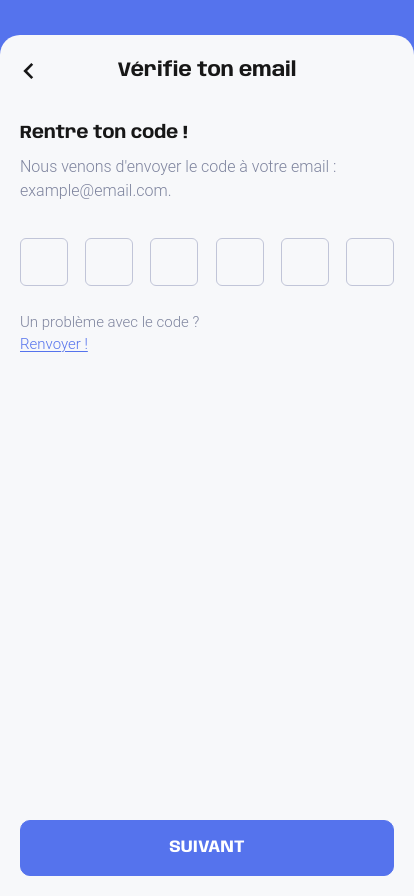
Test: E2E | auth | login › Should handle and display errors › In /otp-verification page in login type
Type "1" into the 1st number field at (44, 262), box [20,238,68,286]
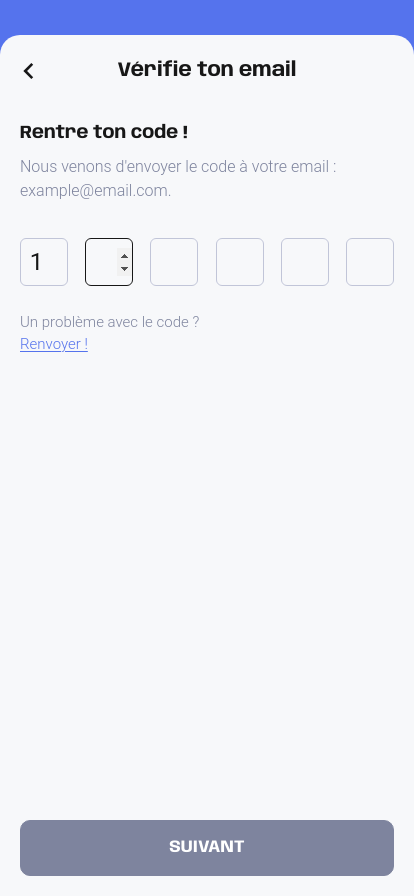
Type "2" into the 2nd number field at (109, 262), box [85,238,133,286]
Type "3" into the 3rd number field at (174, 262), box [150,238,198,286]
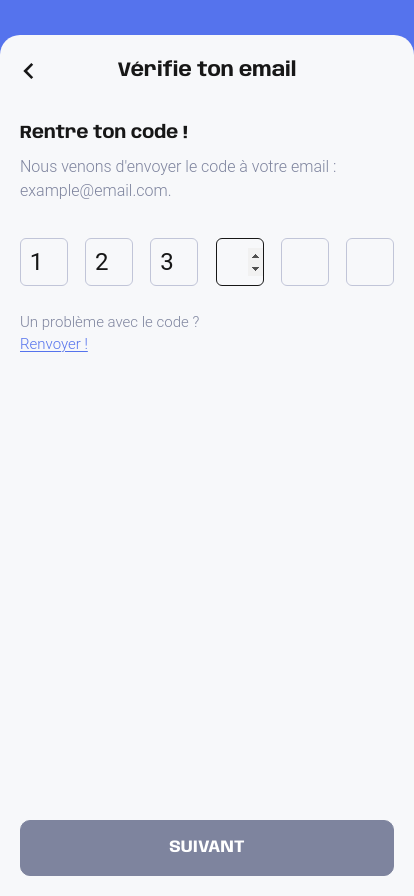
Type "4" into the 4th number field at (240, 262), box [216,238,264,286]
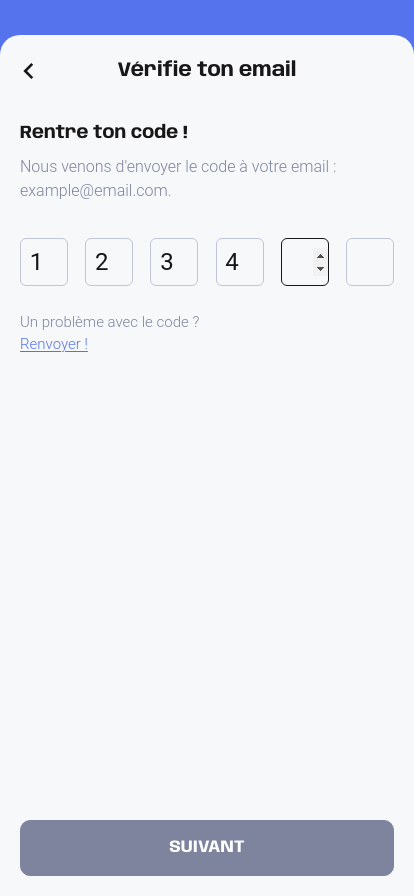
Type "5" into the 5th number field at (305, 262), box [281,238,329,286]
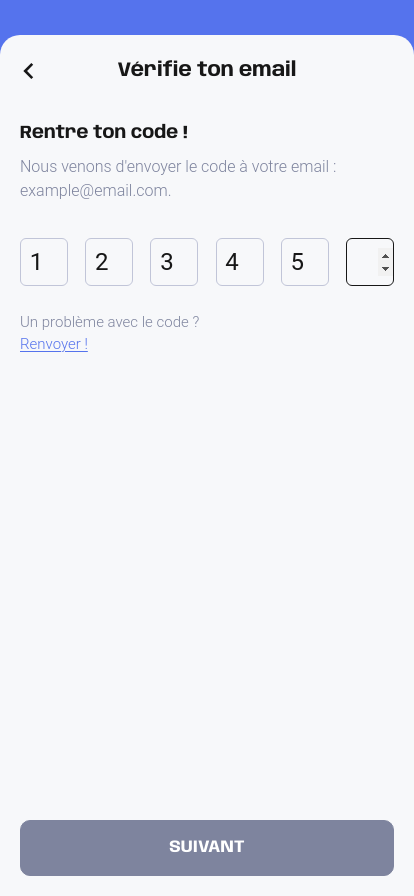
Type "6" into the 6th number field at (370, 262), box [346,238,394,286]
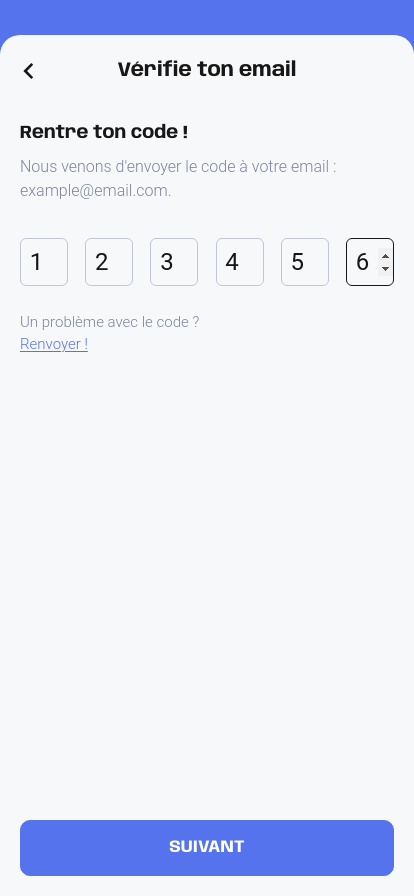
Click the button with test id "button-global" at (207, 848), box [20,820,394,876]
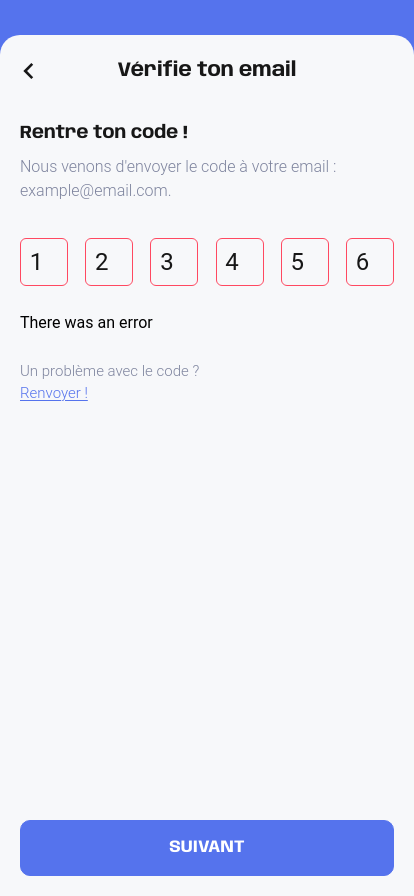
Result: the text "There was an error" is shown at [20,312,153,332]
